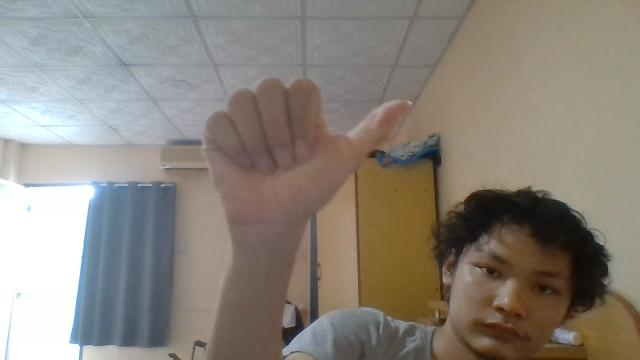left: (200, 76, 412, 226)
